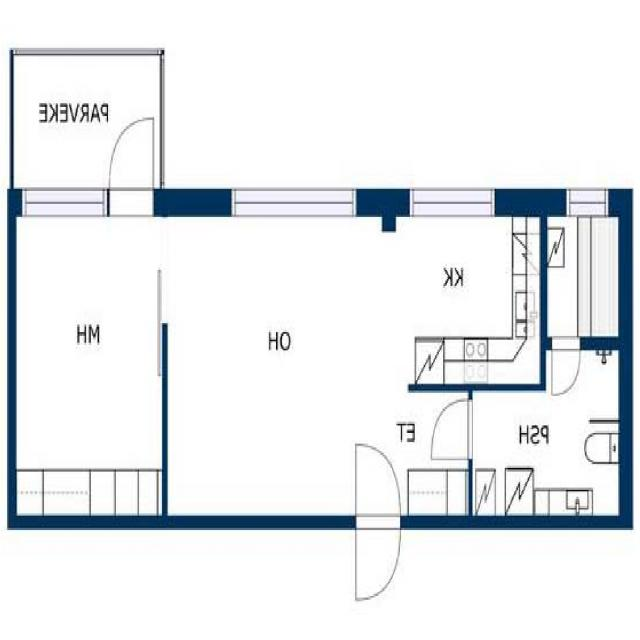door: (110, 120, 154, 216), (356, 444, 401, 528), (356, 516, 401, 599), (432, 400, 472, 459), (553, 336, 580, 394)
